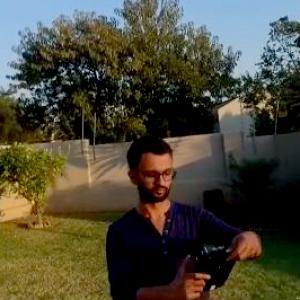follow: (102, 128, 268, 299)
